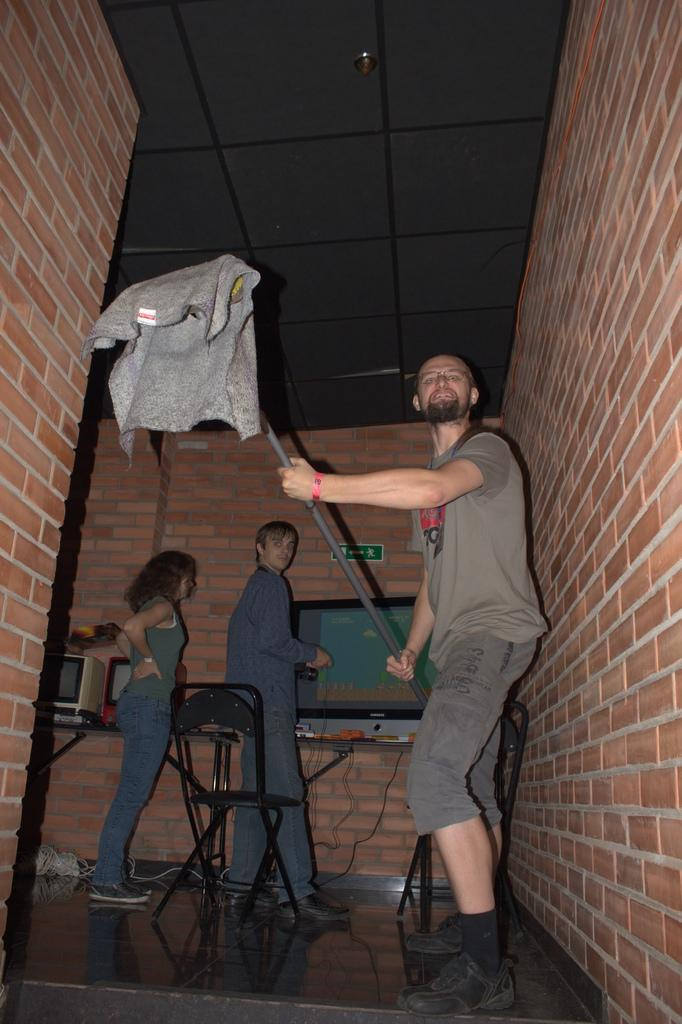Chair: (150, 681, 304, 929), (396, 699, 529, 954)
Computer-monitor: (288, 593, 433, 739)
